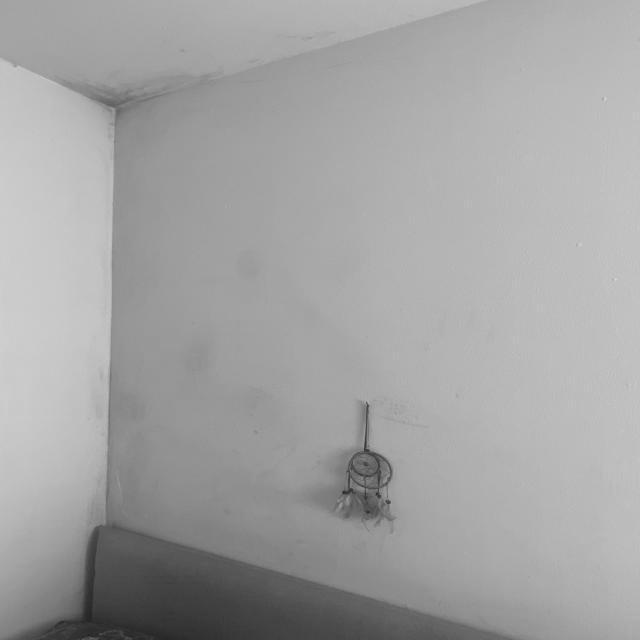stain marks: (73, 355, 174, 528), (328, 547, 496, 627), (167, 504, 327, 576), (49, 62, 232, 124), (178, 433, 312, 505), (290, 288, 386, 388), (500, 589, 640, 635), (200, 230, 284, 302), (161, 316, 227, 402), (225, 380, 308, 433)
